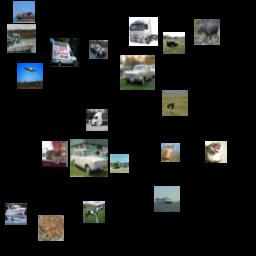airplane: (17, 63, 43, 89), (110, 154, 129, 173)
automobile: (70, 139, 108, 177), (120, 55, 155, 90), (89, 40, 108, 59)
bird: (162, 90, 188, 116), (163, 32, 185, 54)
cat: (42, 141, 68, 167), (205, 141, 227, 163)
deer: (194, 19, 220, 45), (161, 143, 180, 162)
frog: (38, 215, 64, 241)
ship: (7, 24, 36, 53), (154, 186, 180, 212), (5, 203, 27, 225), (13, 1, 35, 23)
truck: (50, 38, 79, 67), (129, 17, 158, 46), (86, 109, 108, 131)
